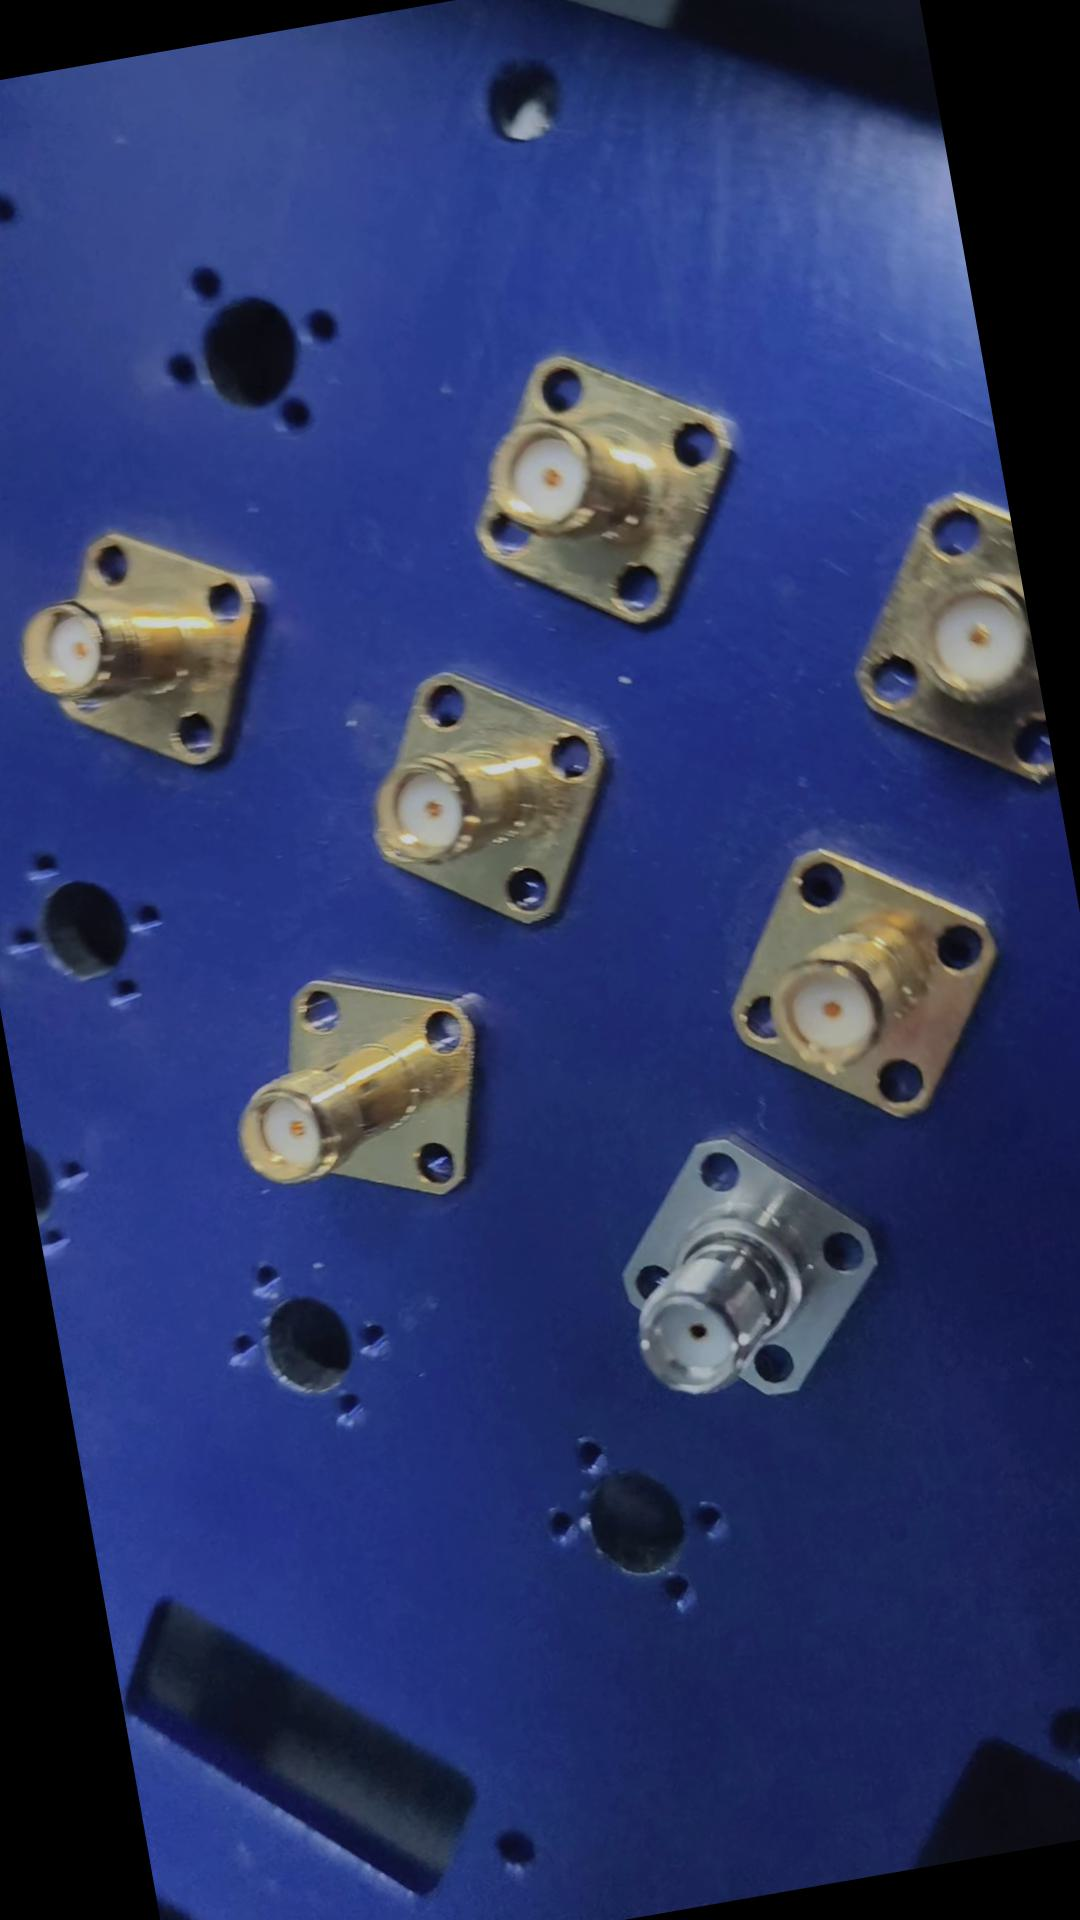SMA: (694, 807, 1018, 1147), (585, 1098, 895, 1433), (447, 326, 752, 654), (338, 644, 620, 956), (4, 506, 291, 804), (206, 955, 504, 1236)
